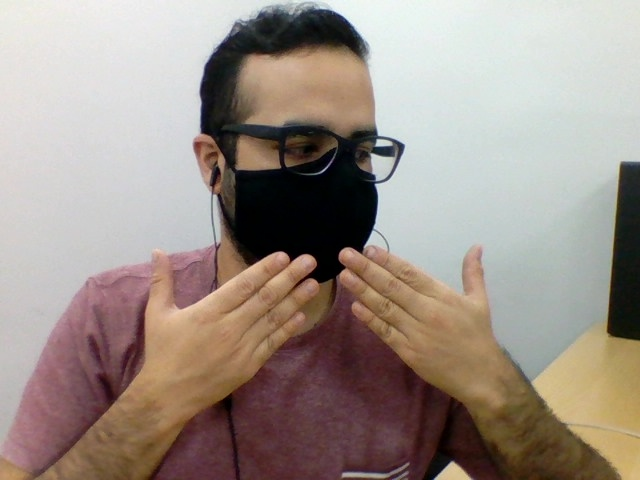ThankYou: (133, 244, 500, 424)
